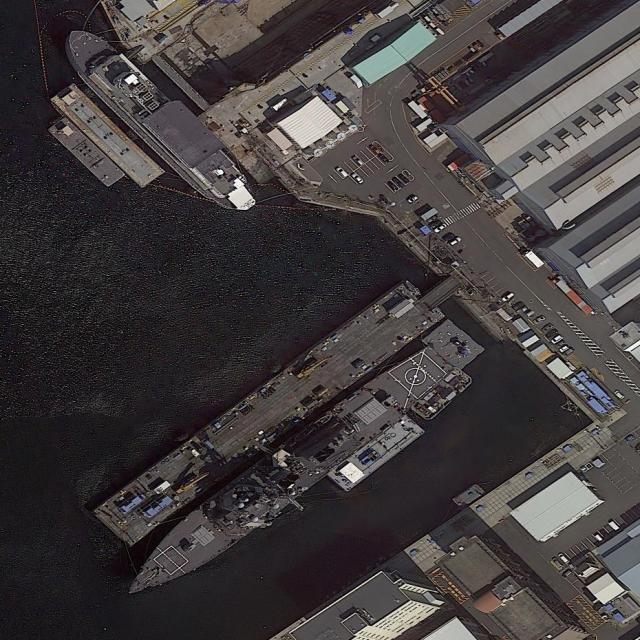Destroyer: (111, 337, 459, 612)
Dock: (91, 275, 445, 551)
Other Warship: (51, 11, 268, 230)
